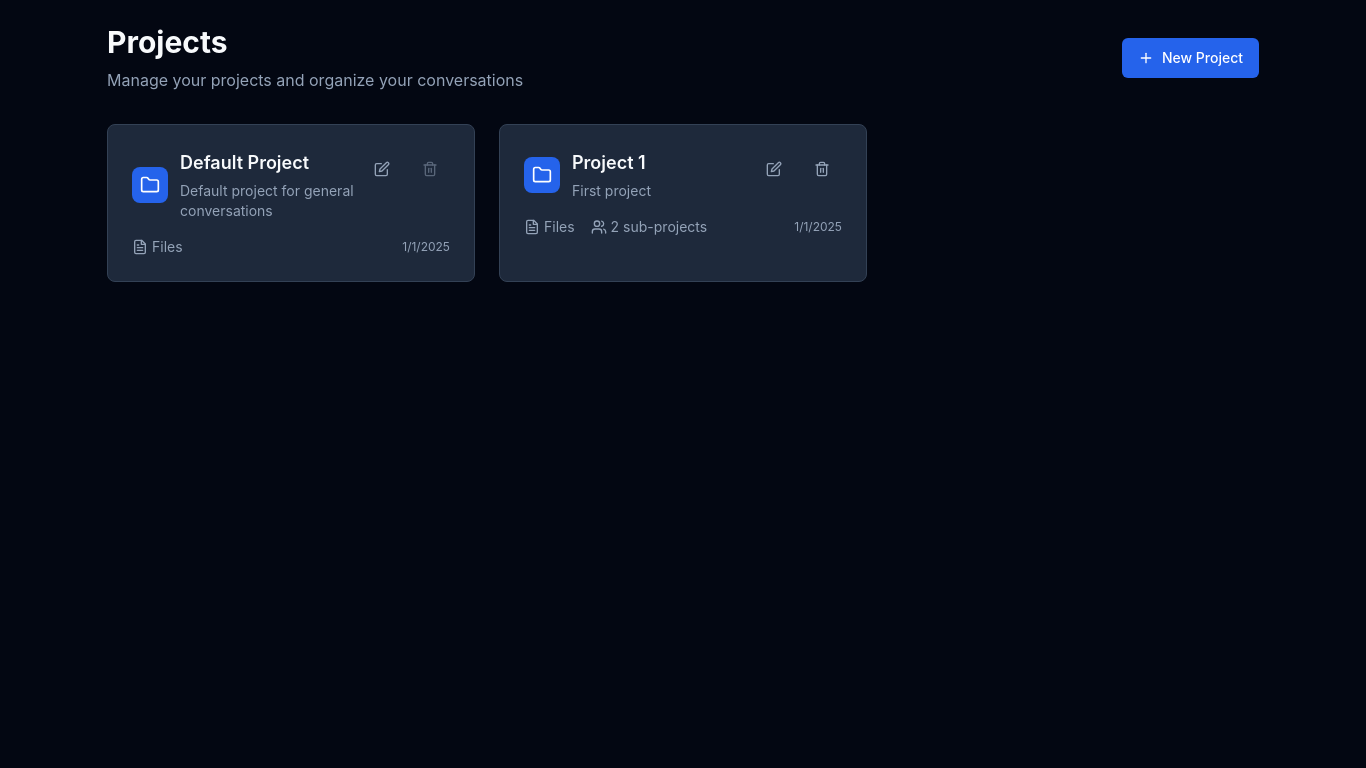
Scenario: ProjectsPage Integration Tests › opens create project modal when New Project button is clicked
The width and height of the screenshot is (1366, 768).
Click the button "New Project" at [1190, 58], box [1122,38,1259,78]
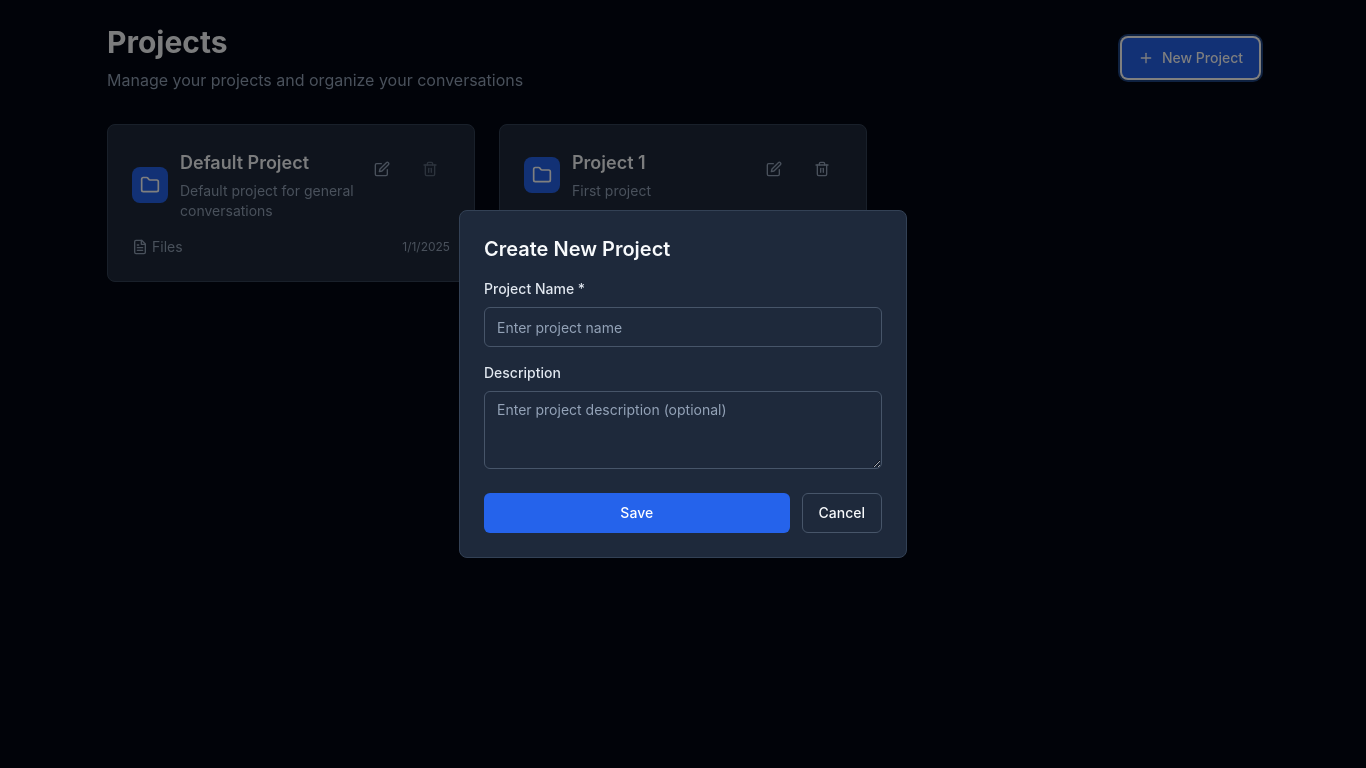
Expected: the heading "Create New Project" is shown, [484,237,670,261]
Expected: the field with placeholder "Enter project name" is shown, [484,307,882,347]
Expected: the text box with placeholder "Enter project description (optional)" is shown, [484,391,882,469]
